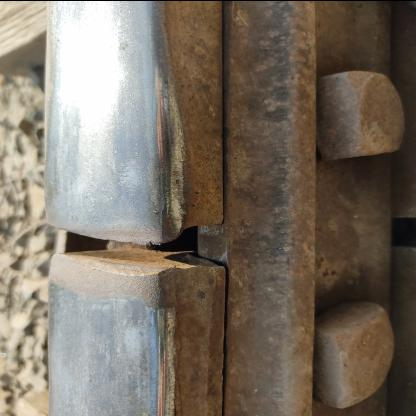Defective: (8, 55, 397, 415)
